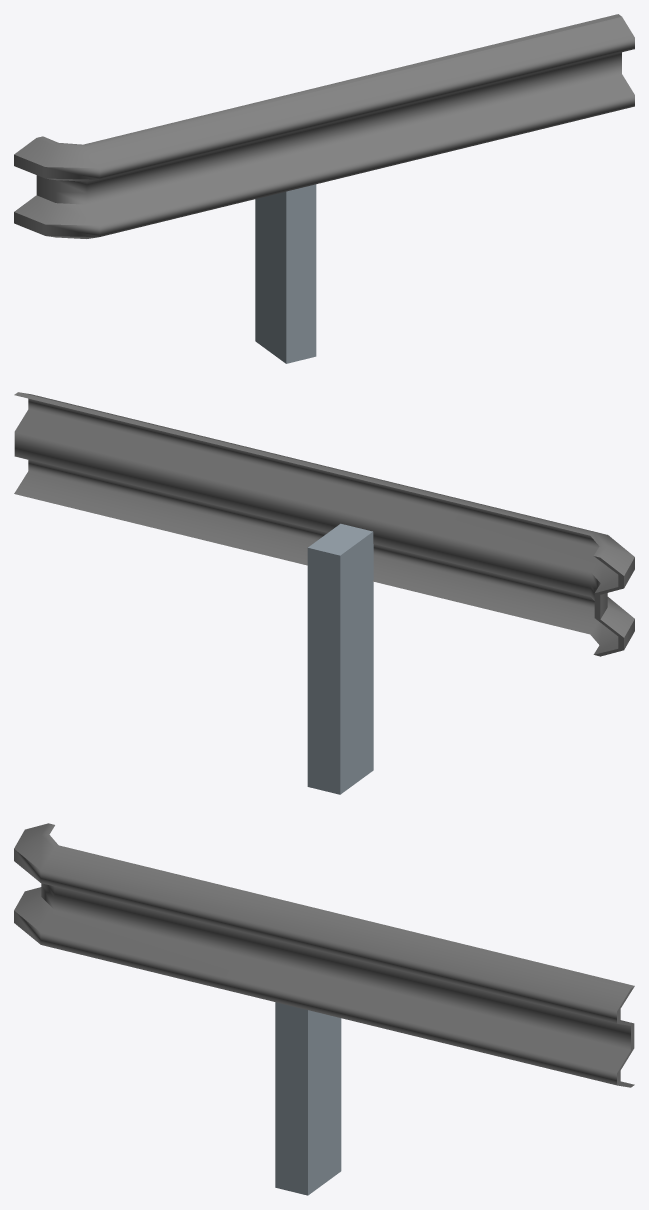
The model's file is GuardRail_Left.fbx.
3 views of the same model, one above another, from view 1: azimuth 30°, elevation 25°; view 2: azimuth 150°, elevation 25°; view 3: azimuth 330°, elevation 25° (orthographic). The views are drawn at different scales.
Parts seen in each view (by area): view 1: endrail2; view 2: endrail2; view 3: endrail2.
Boxes of the visible parts, box(x1,y1,x2,y2) form: endrail2: box(14, 14, 634, 363); endrail2: box(14, 392, 634, 794); endrail2: box(14, 823, 634, 1195).
Size of the model in its own units: 252 by 110 by 34.76.
